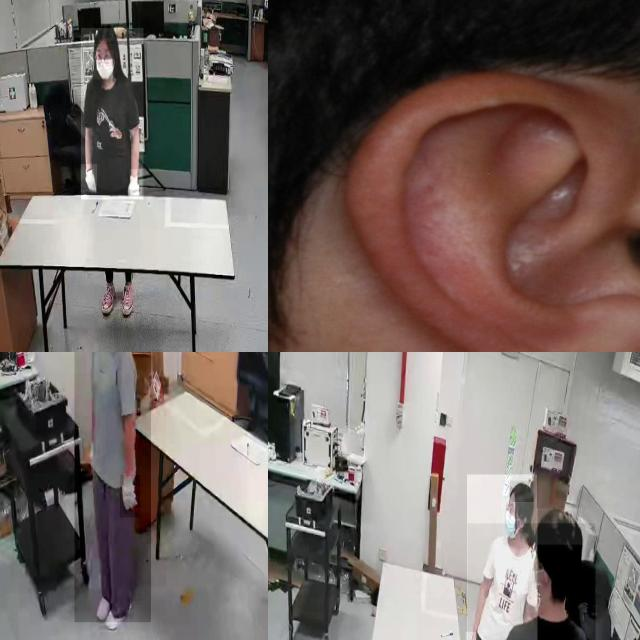No_Ear-Protection: (341, 71, 640, 352)
face_mask: (501, 498, 517, 542), (94, 50, 114, 80)
hand_glove: (120, 475, 140, 518), (80, 164, 98, 193), (130, 169, 142, 199)
hand_noglove: (465, 631, 476, 640)
head_nohelmet: (536, 508, 583, 546), (94, 23, 118, 45), (510, 481, 534, 503)
person: (74, 352, 151, 623), (467, 523, 596, 640), (466, 474, 537, 640), (81, 28, 144, 200)
shoes: (95, 596, 124, 633), (118, 278, 138, 316), (100, 282, 116, 318)
